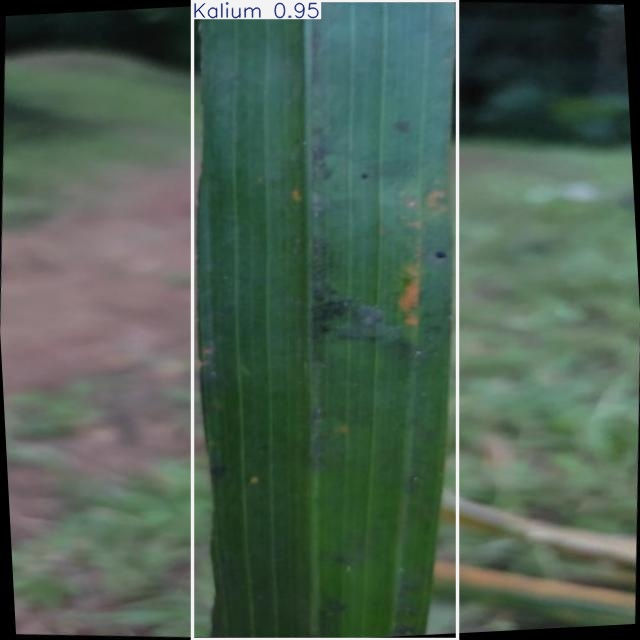Kalium: (193, 0, 458, 640)
